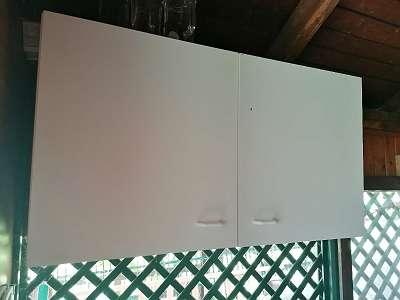cabinet_door: (42, 32, 237, 254), (242, 67, 361, 239)
handle: (192, 215, 227, 231), (246, 214, 282, 227)
